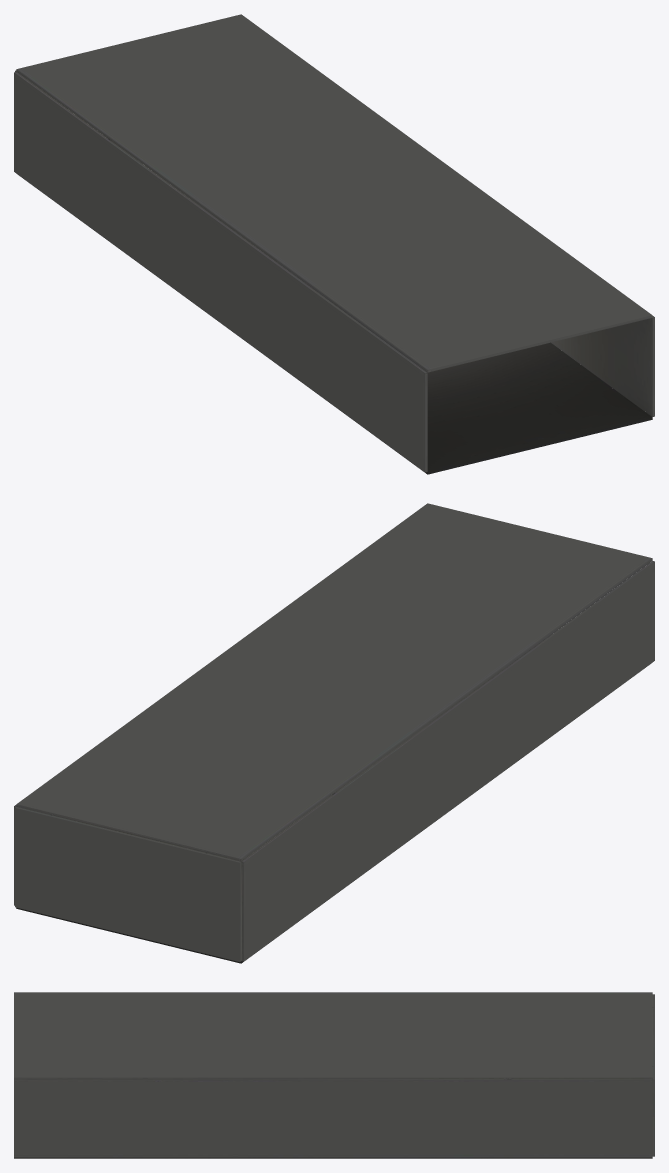
Rendered from shrishti.glb.
The picture shows the model from 3 angles, top to bottom: view 1: azimuth 30°, elevation 25°; view 2: azimuth 150°, elevation 25°; view 3: azimuth 270°, elevation 25°; orthographic projection. The views are drawn at different scales.
Visible parts, largest first — view 1: room-ceiling, room-left, room-floor, room-right; view 2: room-ceiling, room-left, room-far; view 3: room-ceiling, room-right, room-floor, room-far.
Boxes of the visible parts, left/top/right/bottom form: room-ceiling: left=16, top=14, right=652, bottom=372; room-left: left=14, top=72, right=427, bottom=472; room-floor: left=20, top=176, right=652, bottom=474; room-right: left=551, top=316, right=654, bottom=416; room-ceiling: left=16, top=503, right=652, bottom=861; room-left: left=241, top=561, right=654, bottom=961; room-far: left=15, top=807, right=241, bottom=961; room-ceiling: left=14, top=992, right=652, bottom=1079; room-right: left=14, top=1079, right=652, bottom=1157; room-floor: left=14, top=1157, right=652, bottom=1158; room-far: left=652, top=994, right=654, bottom=1156.
Bounding box in the file's own units: 9.2 × 4 × 28.6.
23 materials, 19 textured.
